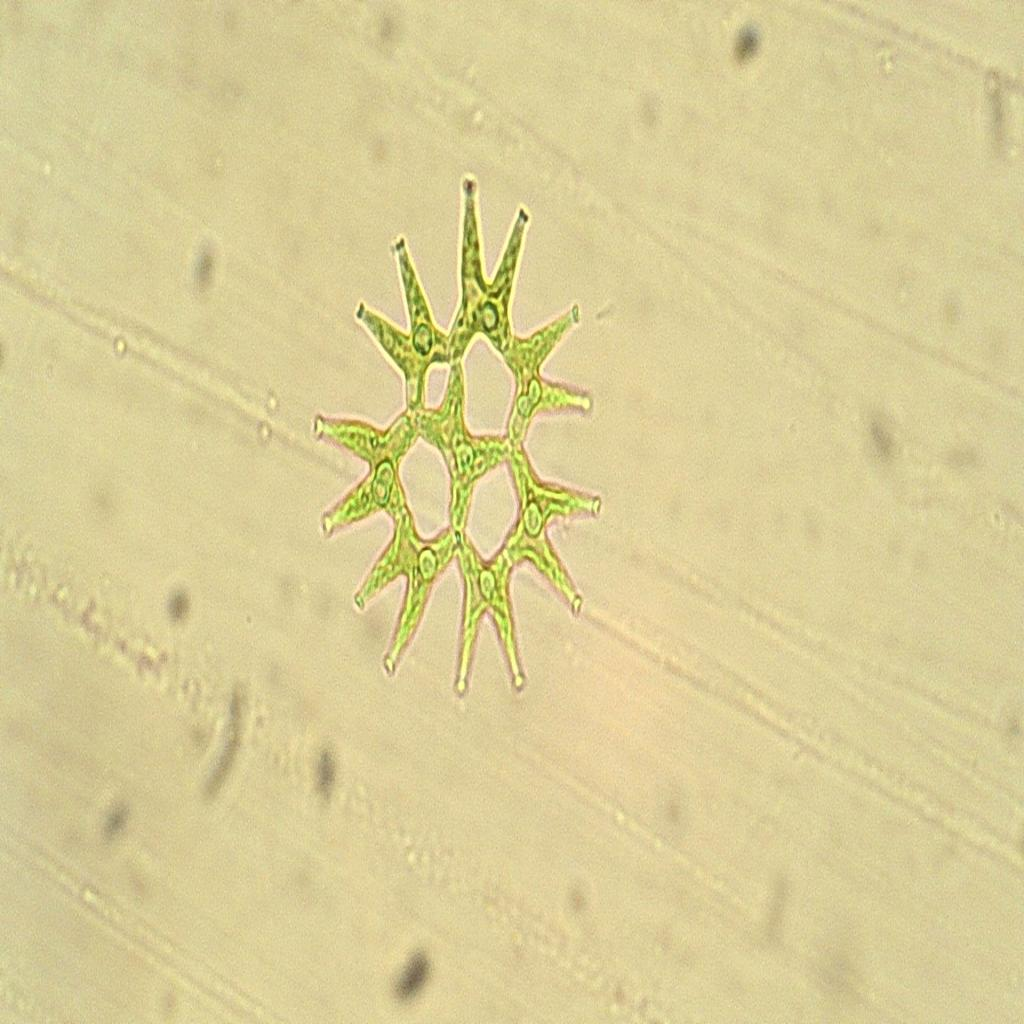Pediastrum_CTH: (303, 133, 615, 737)
